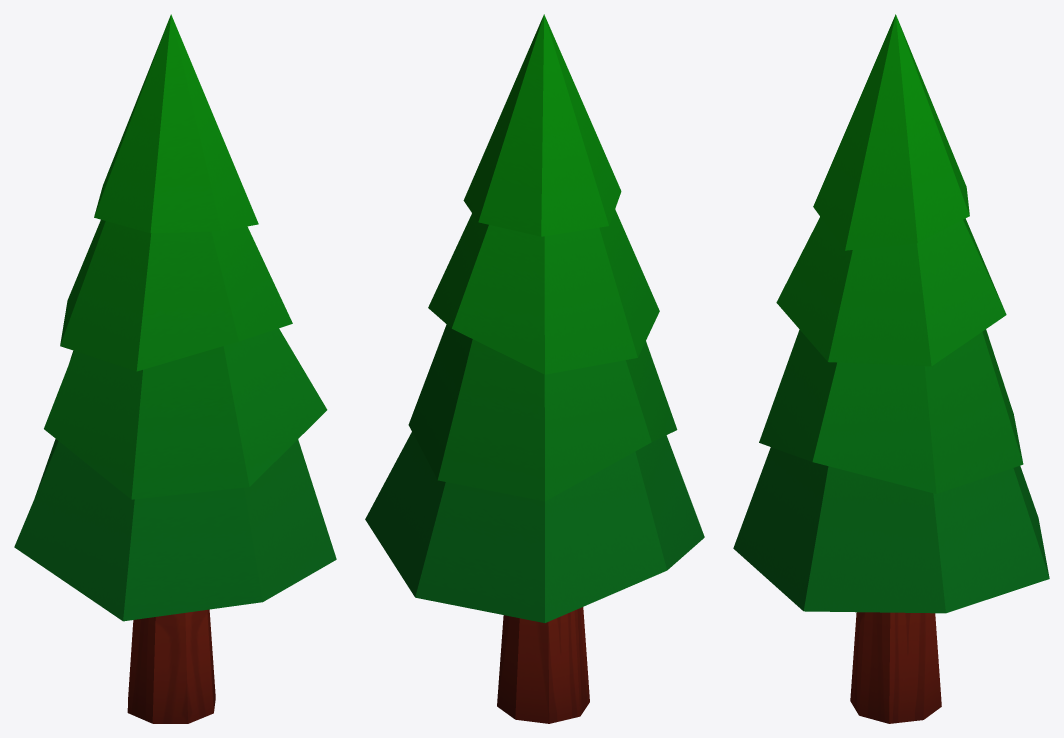
Rendered from Derevo.fbx.
The picture shows the model from 3 angles, left to right: view 1: azimuth 30°, elevation 25°; view 2: azimuth 150°, elevation 25°; view 3: azimuth 270°, elevation 25°; orthographic projection.
Visible parts, largest first — view 1: Tree; view 2: Tree; view 3: Tree.
Part boxes in pixels (x1=…): Tree: x1=14, y1=14, x2=336, y2=723; Tree: x1=365, y1=14, x2=704, y2=723; Tree: x1=733, y1=14, x2=1049, y2=723.
Bounding box in the file's own units: 958 × 2151 × 894.
1 material, 1 textured.
